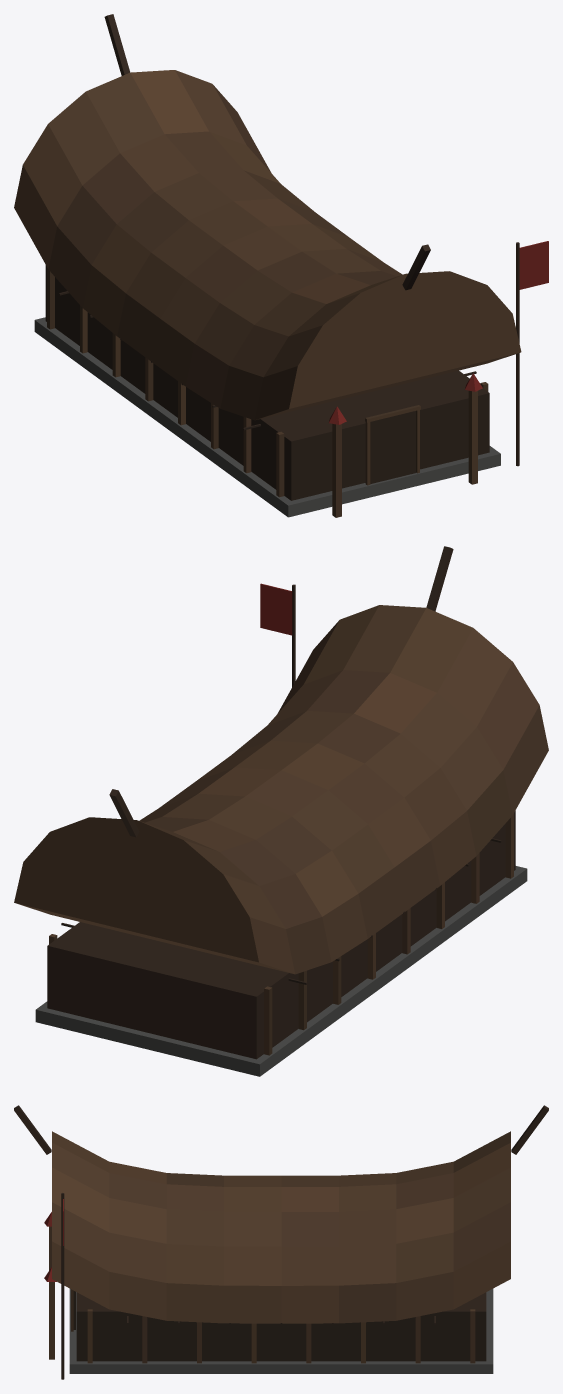
The model's file is rime_hall.glb.
3 renders of one model, top to bottom at view 1: azimuth 30°, elevation 25°; view 2: azimuth 150°, elevation 25°; view 3: azimuth 270°, elevation 25°, orthographic. The views are drawn at different scales.
Parts seen in each view (by area): view 1: rime_hall; view 2: rime_hall; view 3: rime_hall.
Part boxes in pixels (x1,y1,x2,y2): rime_hall: (14, 14, 548, 517); rime_hall: (14, 546, 548, 1076); rime_hall: (14, 1105, 548, 1379).
Bounding box in the file's own units: 9.4 × 9.06 × 19.58.
1 material, 1 textured.
